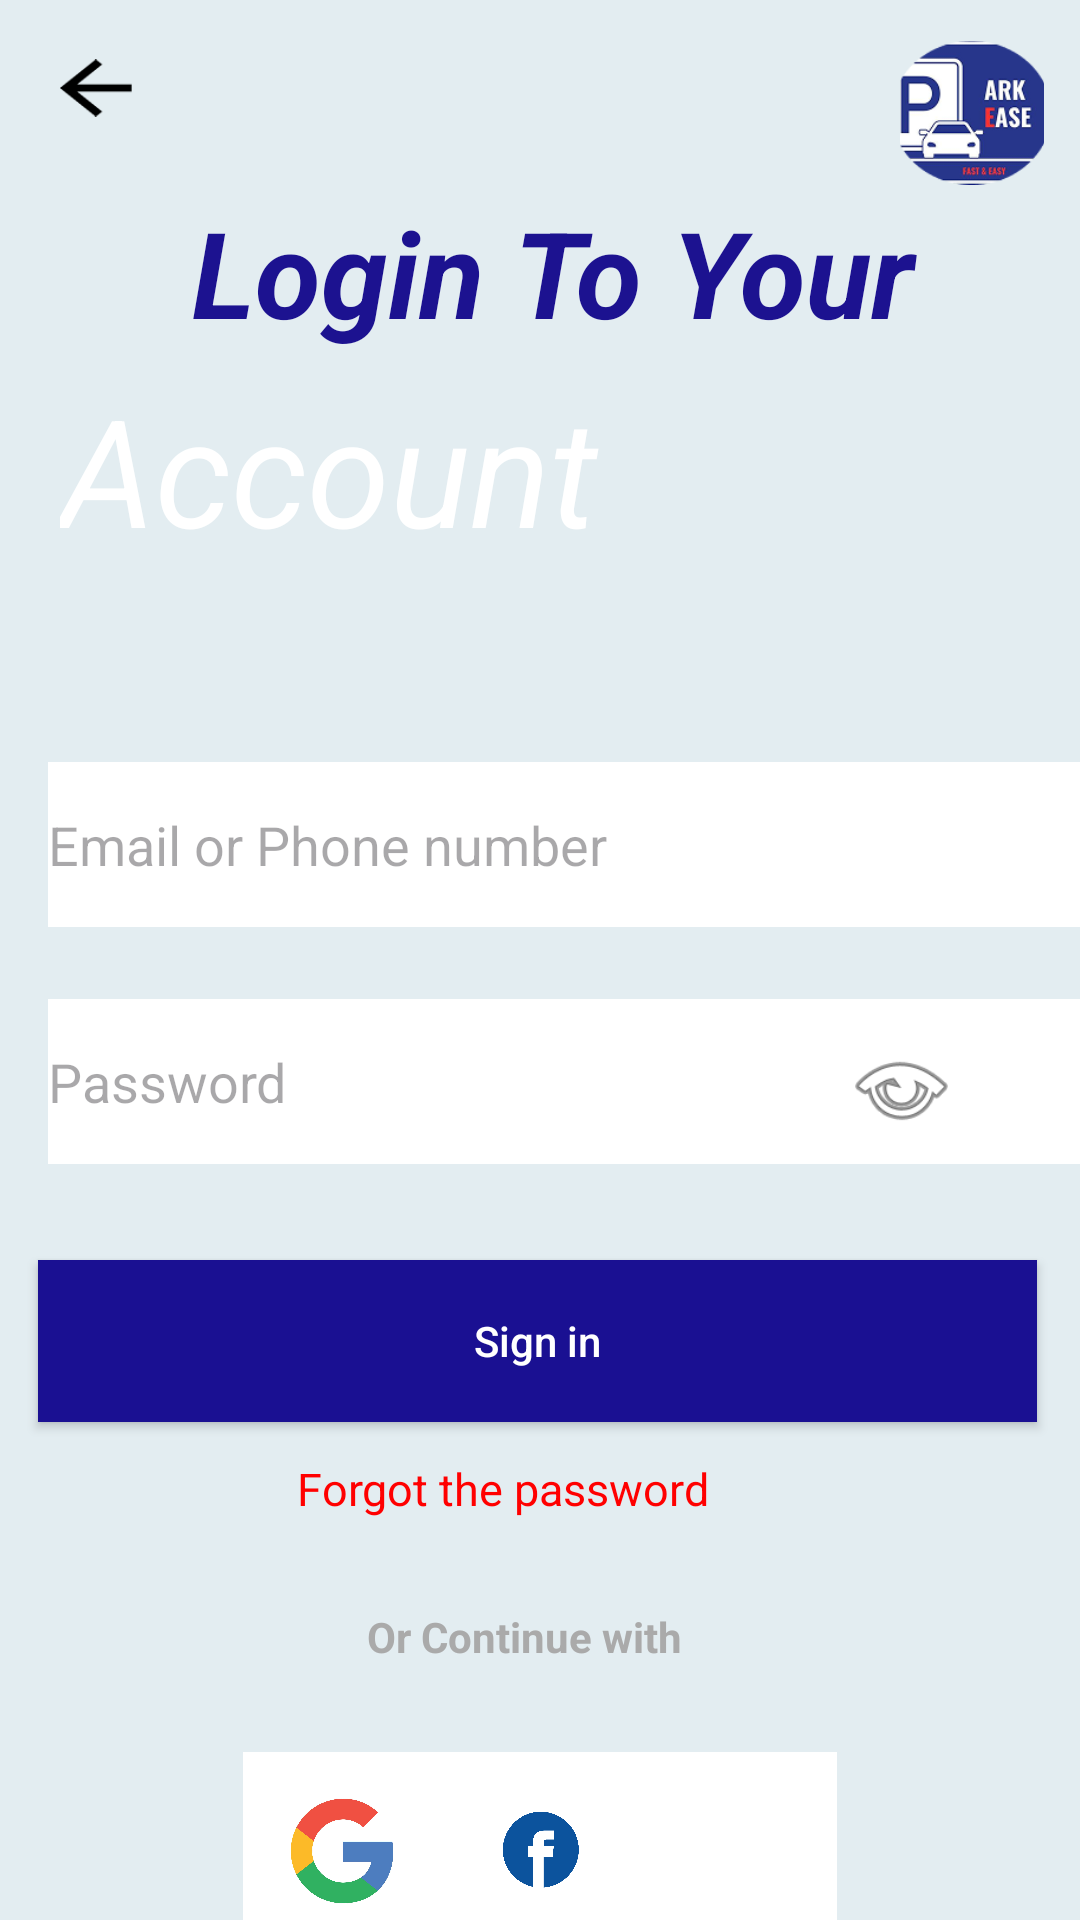

Screen size 1080*1920. Icon name, then its box in pixels as [x1, y1, x2, y2]:
Back: [60, 59, 132, 117]
view: [855, 1062, 948, 1120]
